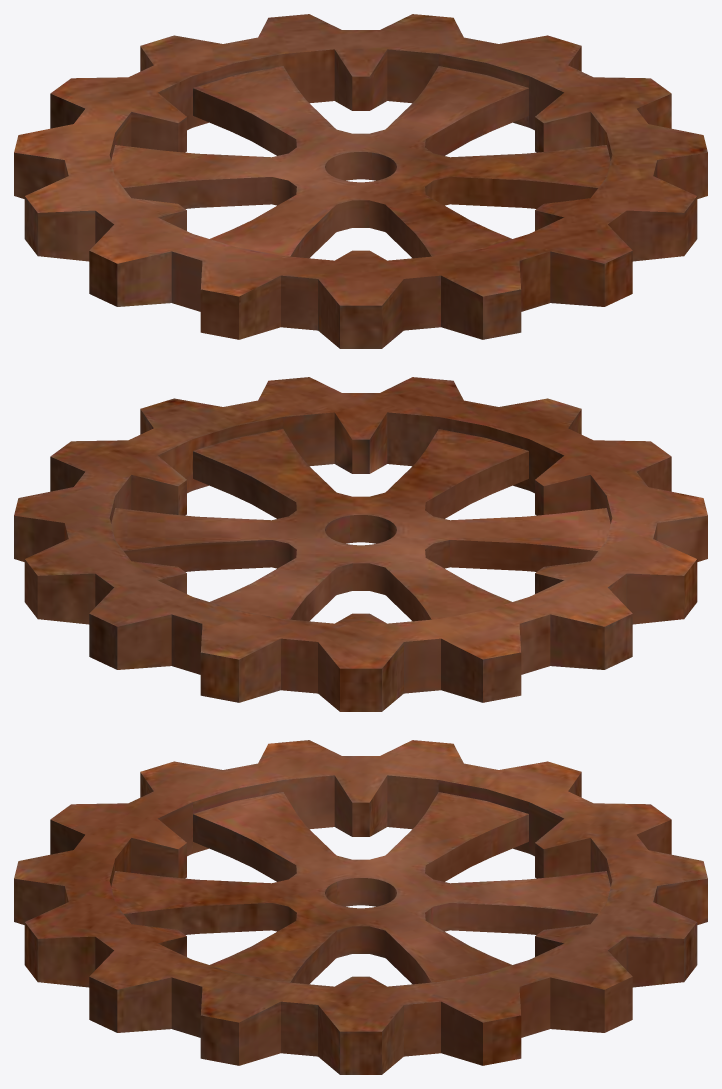
The model's file is steampunk_gear_17.glb.
3 renders of one model, top to bottom at view 1: azimuth 30°, elevation 25°; view 2: azimuth 150°, elevation 25°; view 3: azimuth 270°, elevation 25°, orthographic.
Parts seen in each view (by area): view 1: steampunk_gear_17; view 2: steampunk_gear_17; view 3: steampunk_gear_17.
Boxes of the visible parts, left/top/right/bottom form: steampunk_gear_17: left=14, top=14, right=707, bottom=348; steampunk_gear_17: left=14, top=377, right=707, bottom=711; steampunk_gear_17: left=14, top=740, right=707, bottom=1074.
Size of what is drawn, in the model's own units: 0.1531 by 0.0126 by 0.154.
Materials: 1 (1 with a texture image).
